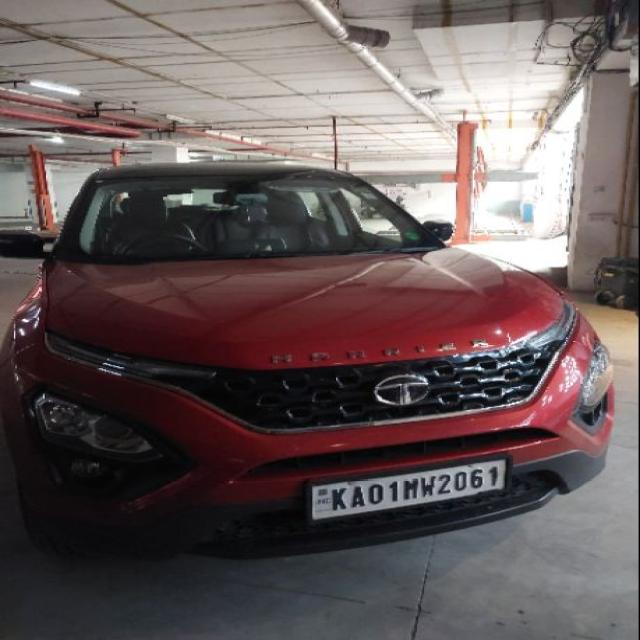license_plate: (302, 455, 510, 524)
